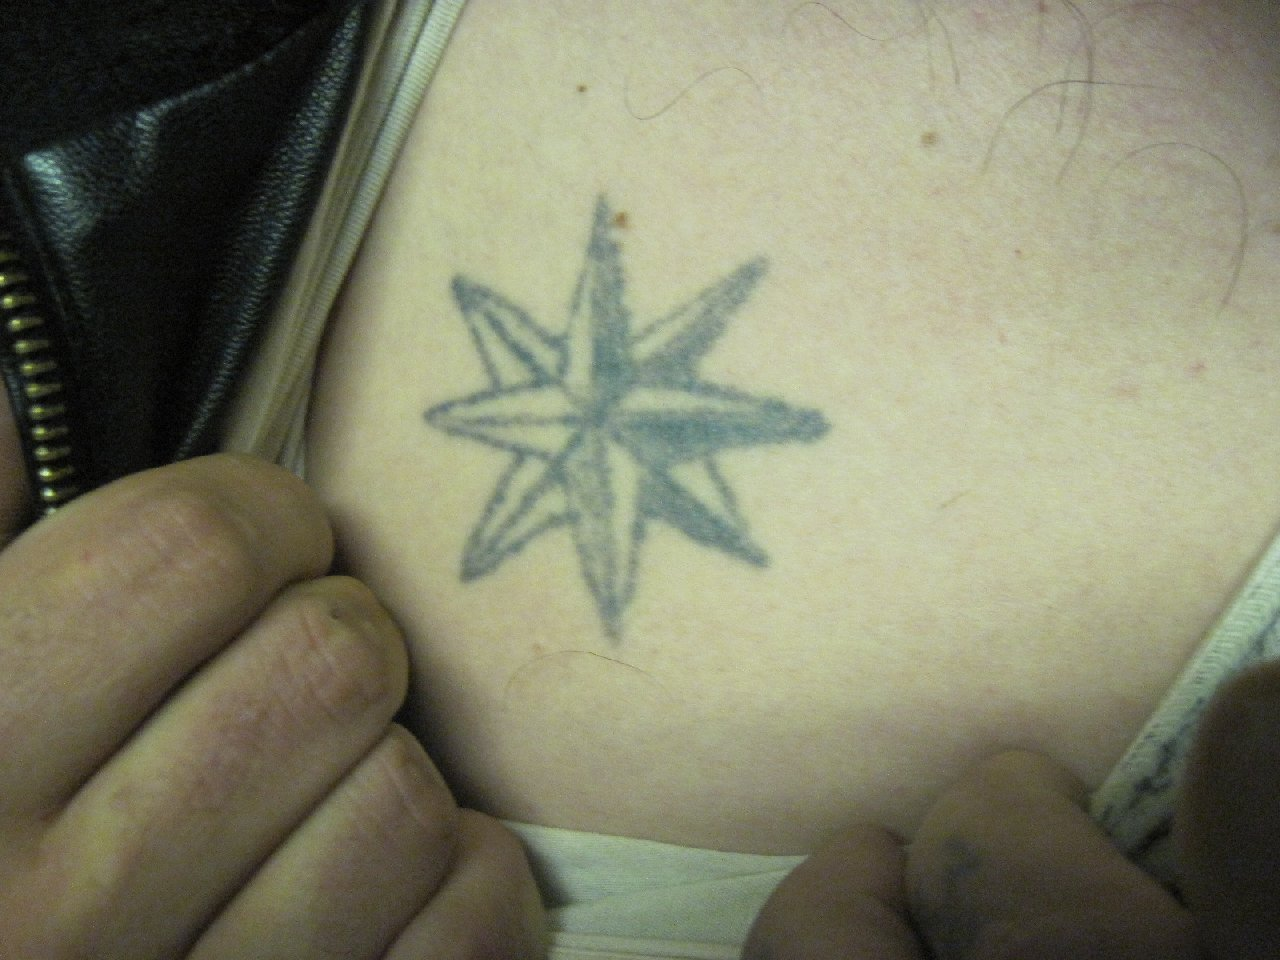tatu4_zvezda: (413, 192, 834, 644)
